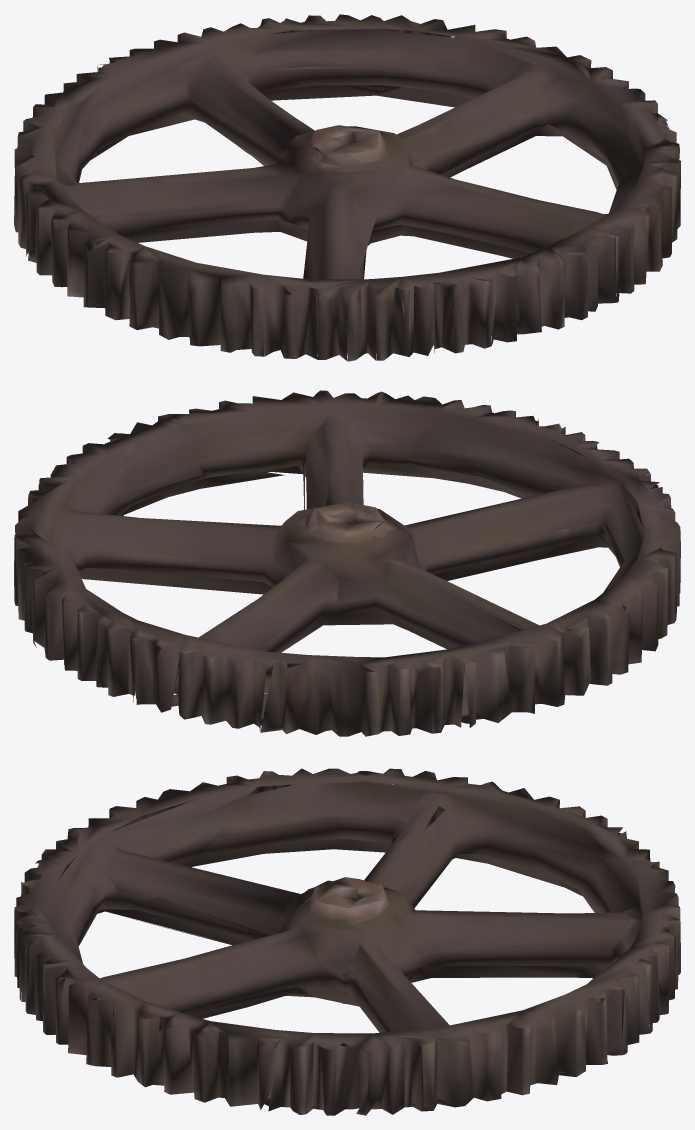
Rendered from engranaje.movil.glb.
The picture shows the model from 3 angles, top to bottom: view 1: azimuth 30°, elevation 25°; view 2: azimuth 150°, elevation 25°; view 3: azimuth 270°, elevation 25°; orthographic projection.
Visible parts, largest first — view 1: geometry_0; view 2: geometry_0; view 3: geometry_0.
Part boxes in pixels (bbox=[...]): geometry_0: bbox=[14, 14, 680, 361]; geometry_0: bbox=[14, 390, 680, 736]; geometry_0: bbox=[14, 768, 680, 1115].
Size of the model in its own units: 0.4994 by 0.0795 by 0.4995.
1 material, 1 textured.
